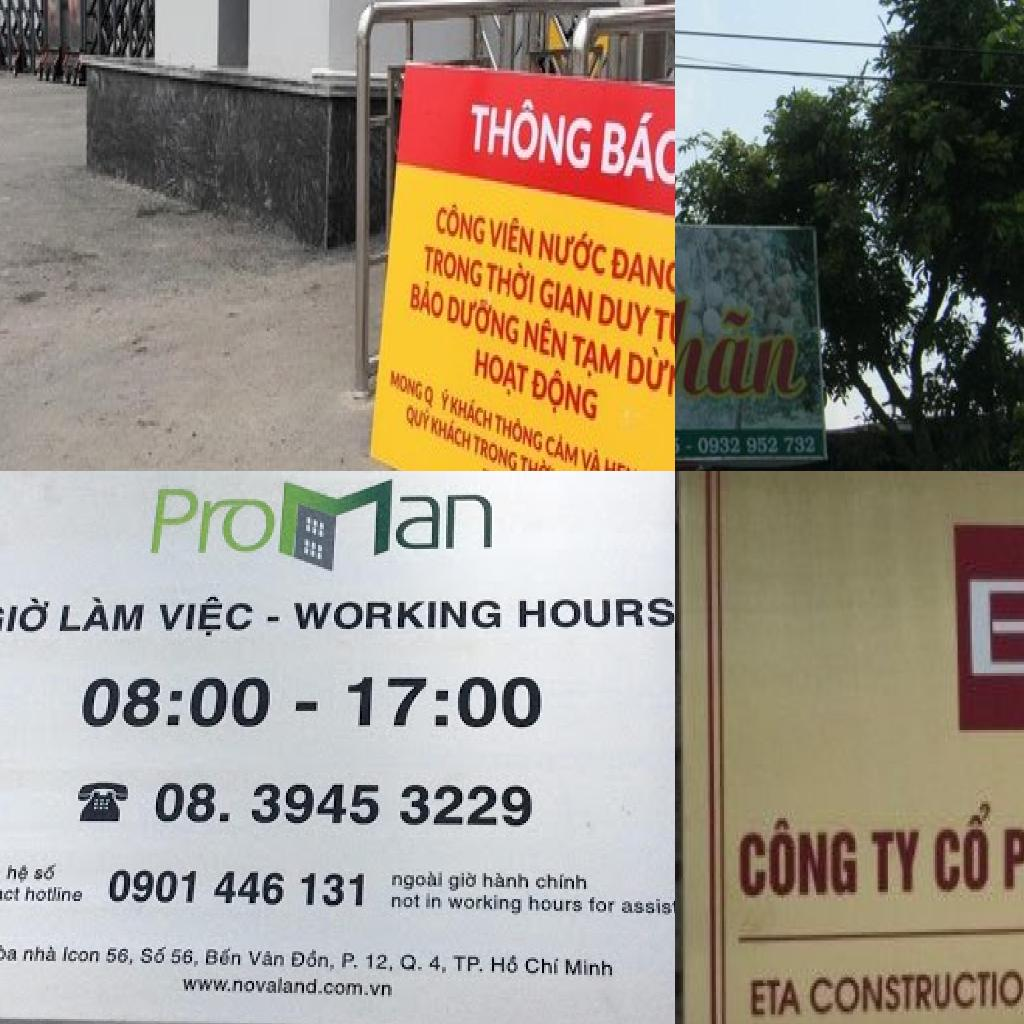text: (152, 779, 536, 831), (675, 287, 811, 414), (106, 865, 370, 913), (808, 963, 1024, 1020), (470, 92, 600, 186), (736, 812, 864, 904), (344, 673, 546, 731), (78, 675, 278, 731), (146, 485, 280, 559), (292, 597, 506, 635), (599, 105, 675, 205), (963, 573, 1024, 684), (933, 798, 996, 901), (394, 493, 498, 555), (516, 595, 675, 631), (530, 360, 604, 437), (180, 975, 398, 1001), (449, 289, 525, 355), (537, 226, 612, 284), (156, 597, 258, 639), (867, 824, 923, 900), (56, 595, 150, 637), (624, 341, 675, 418), (610, 244, 675, 304), (474, 344, 532, 408), (572, 331, 628, 394), (539, 270, 598, 328), (424, 242, 486, 294), (598, 292, 657, 344), (488, 257, 540, 313), (436, 200, 491, 252), (522, 312, 571, 370), (491, 213, 539, 268), (749, 975, 806, 1020), (495, 410, 547, 458), (0, 597, 54, 637), (430, 412, 475, 458), (450, 392, 497, 436), (411, 276, 449, 328), (446, 893, 524, 917), (473, 434, 521, 471), (544, 428, 582, 471), (391, 366, 427, 410), (22, 885, 86, 907), (650, 307, 675, 362), (290, 947, 338, 975), (390, 869, 446, 893), (564, 957, 616, 981), (534, 871, 590, 893), (620, 897, 675, 919), (404, 400, 434, 439), (528, 895, 586, 915), (62, 943, 104, 967), (482, 871, 532, 891), (204, 945, 244, 969), (246, 949, 288, 971), (524, 955, 562, 979), (20, 943, 60, 965), (170, 945, 202, 971), (452, 953, 488, 975), (518, 452, 559, 471), (106, 945, 138, 969), (32, 861, 62, 885), (140, 945, 170, 969), (366, 949, 396, 973), (490, 955, 522, 977), (586, 895, 618, 917), (448, 871, 478, 893), (604, 454, 641, 471), (428, 951, 452, 977), (582, 444, 605, 471), (6, 863, 34, 885), (390, 893, 422, 911), (400, 951, 426, 973), (340, 949, 362, 973), (0, 941, 20, 965), (441, 384, 455, 418), (425, 382, 438, 416), (424, 893, 444, 913), (0, 887, 22, 905), (685, 443, 695, 453)
